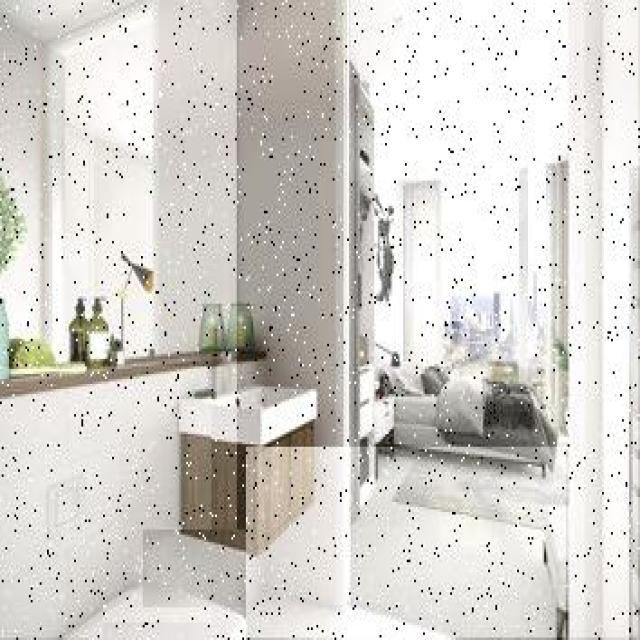Wall: (238, 0, 351, 605), (247, 449, 566, 637), (0, 369, 212, 622), (570, 0, 640, 637), (351, 0, 568, 181), (0, 431, 103, 637), (145, 530, 264, 607), (375, 139, 403, 356)
